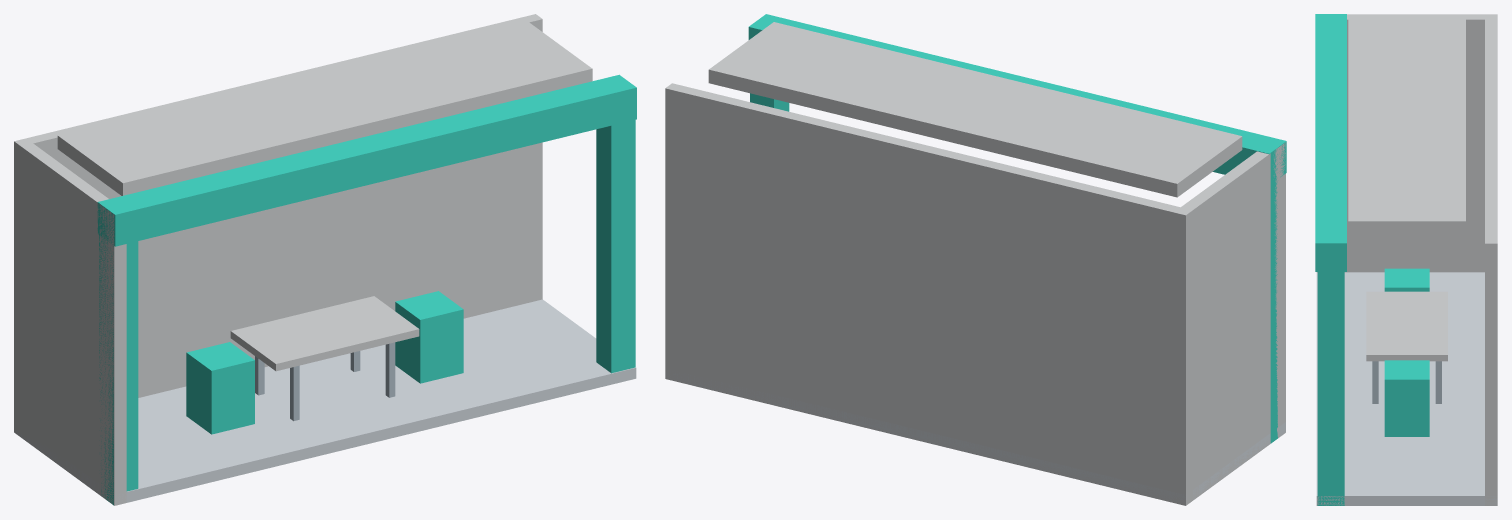
3 renders of one model, left to right at view 1: azimuth 30°, elevation 25°; view 2: azimuth 150°, elevation 25°; view 3: azimuth 270°, elevation 25°, orthographic. The views are drawn at different scales.
Visible parts, largest first — view 1: Exhibition Booth Concept; view 2: Exhibition Booth Concept; view 3: Exhibition Booth Concept.
Boxes of the visible parts, left/top/right/bottom form: Exhibition Booth Concept: left=14, top=14, right=636, bottom=505; Exhibition Booth Concept: left=665, top=14, right=1286, bottom=505; Exhibition Booth Concept: left=1315, top=14, right=1497, bottom=505.
Size of the model in its own units: 6 by 3.34 by 2.01.
